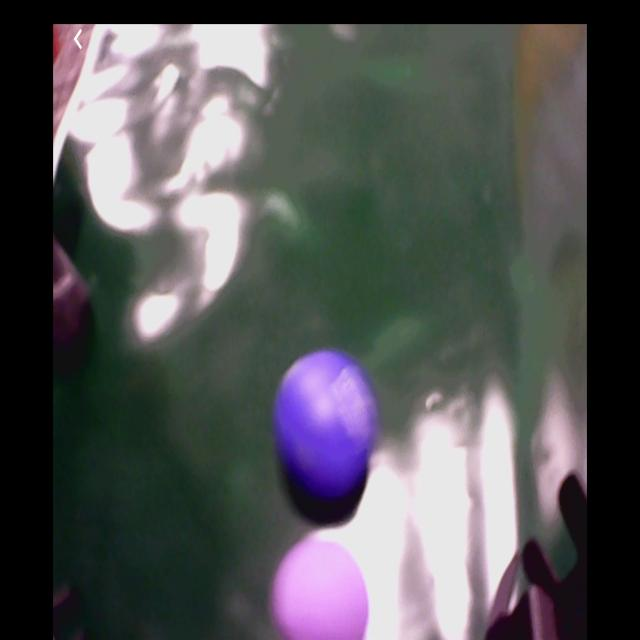ball: (278, 349, 374, 500), (273, 539, 370, 640)
